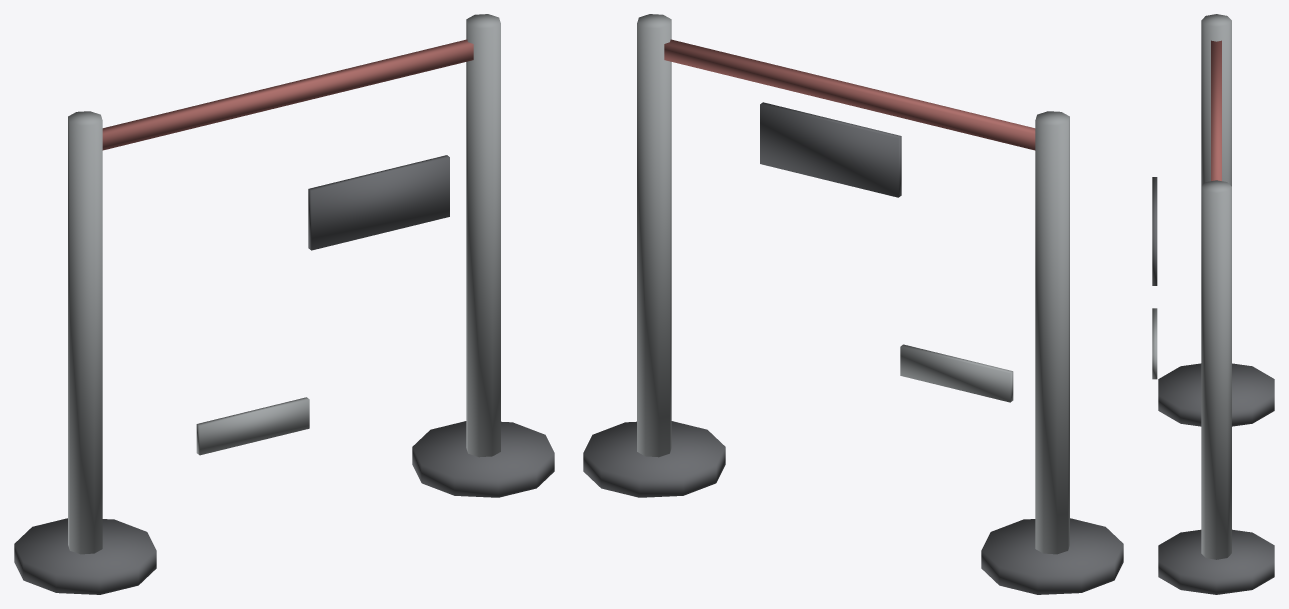
Rendered from queue_stanchion__weathered.glb.
3 views of the same model, side by side, from view 1: azimuth 30°, elevation 25°; view 2: azimuth 150°, elevation 25°; view 3: azimuth 270°, elevation 25° (orthographic). The views are drawn at different scales.
Visible parts, largest first — view 1: world; view 2: world; view 3: world.
Boxes of the visible parts, box(x1,y1,x2,y2) form: world: box(14, 14, 554, 594); world: box(583, 14, 1123, 594); world: box(1152, 14, 1274, 594).
Bounding box in the file's own units: 1.18 × 0.9653 × 0.2803.
